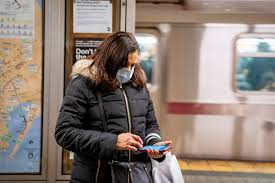masked: (98, 35, 141, 87)
